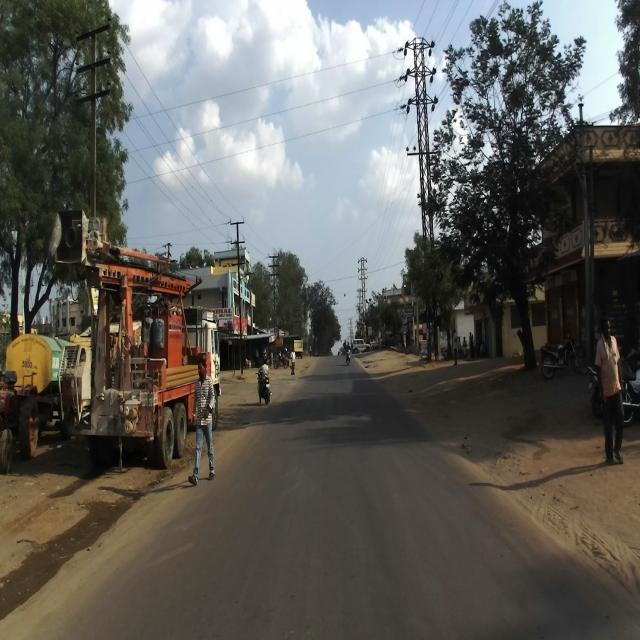motorcycle: (538, 328, 583, 382)
truck: (48, 208, 220, 469)
